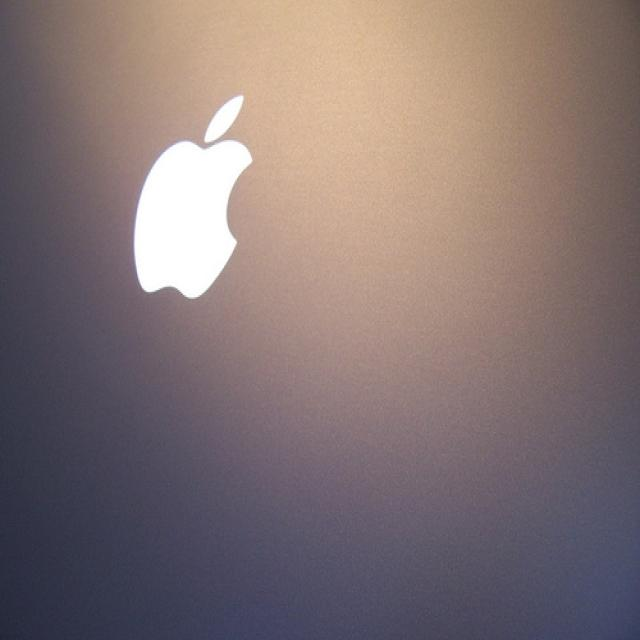apple: (124, 86, 258, 305)
